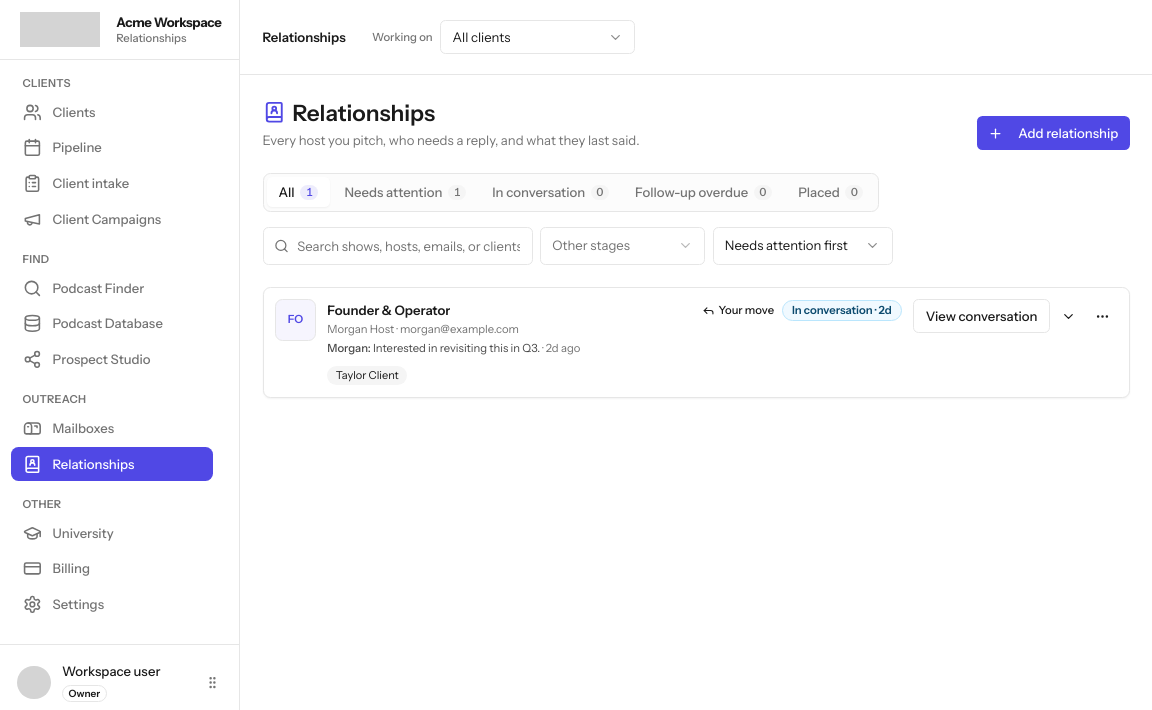
Test: WorkspaceRelationships › drops the duplicated header and the stat tiles from the panel
Click the button named "Open details for Founder & Operator" at (1068, 316), box [1054,301,1084,331]
(page scrolled)
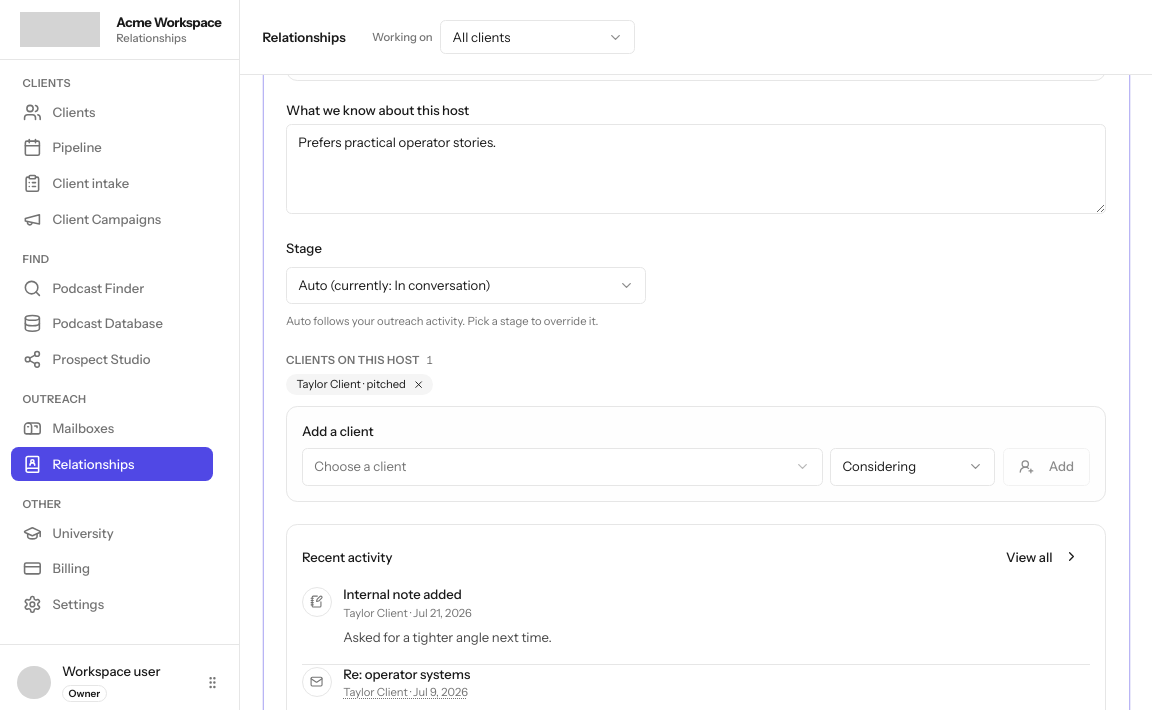
Result: the heading "Clients on this host 1" is shown at [286,353,433,367]
